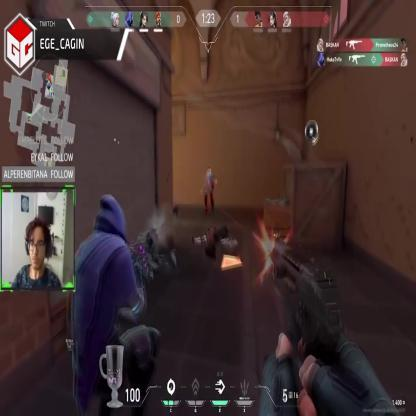enemy: (203, 166, 217, 220)
enemy_head: (207, 166, 212, 175)
